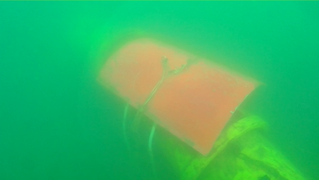leak: (96, 35, 261, 157)
pipe: (117, 97, 306, 180), (64, 11, 145, 80)
